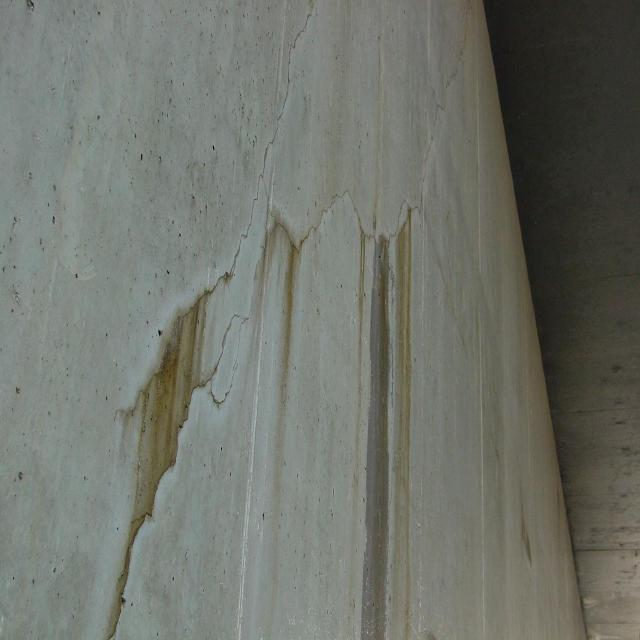diagonal crack: (108, 0, 472, 640)
